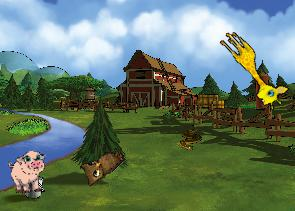giraffe: (209, 27, 293, 113)
owl: (74, 137, 126, 190)
pig: (7, 150, 49, 195)
